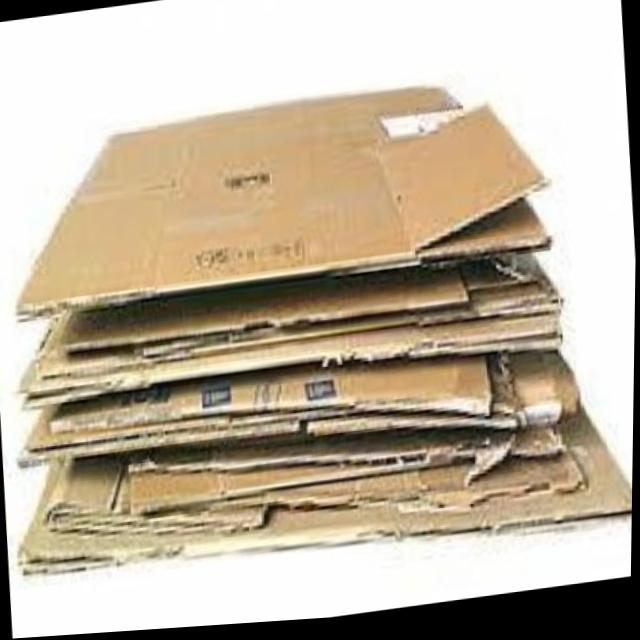box: (0, 23, 639, 614)
